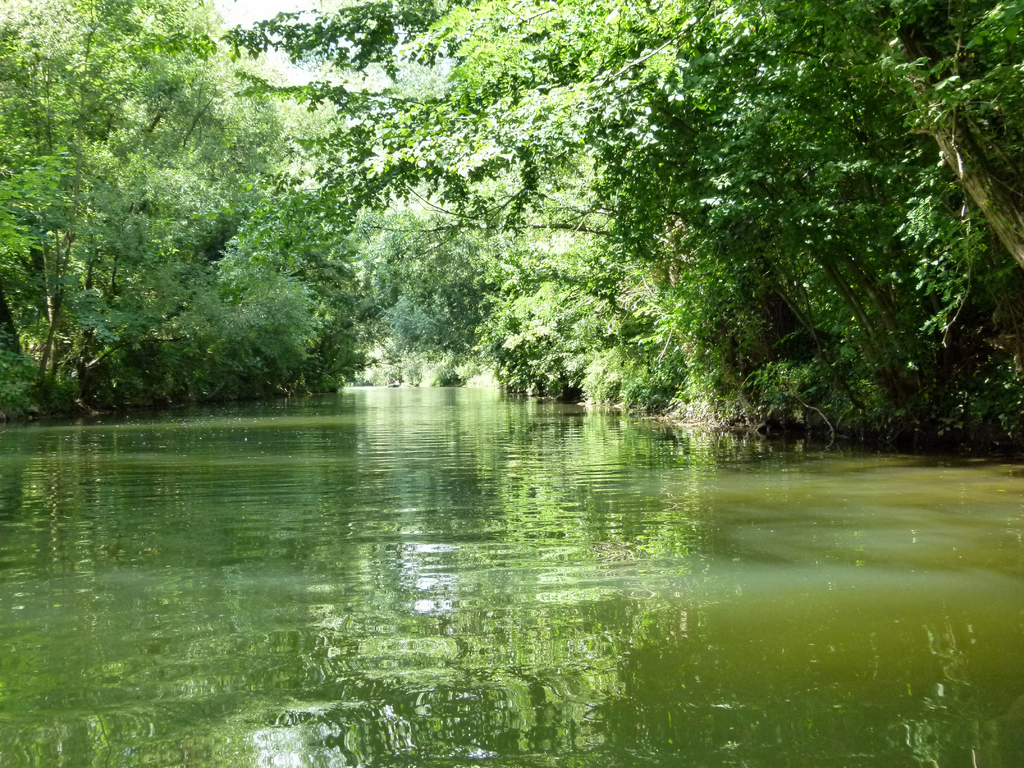Tree: (0, 1, 1023, 458)
